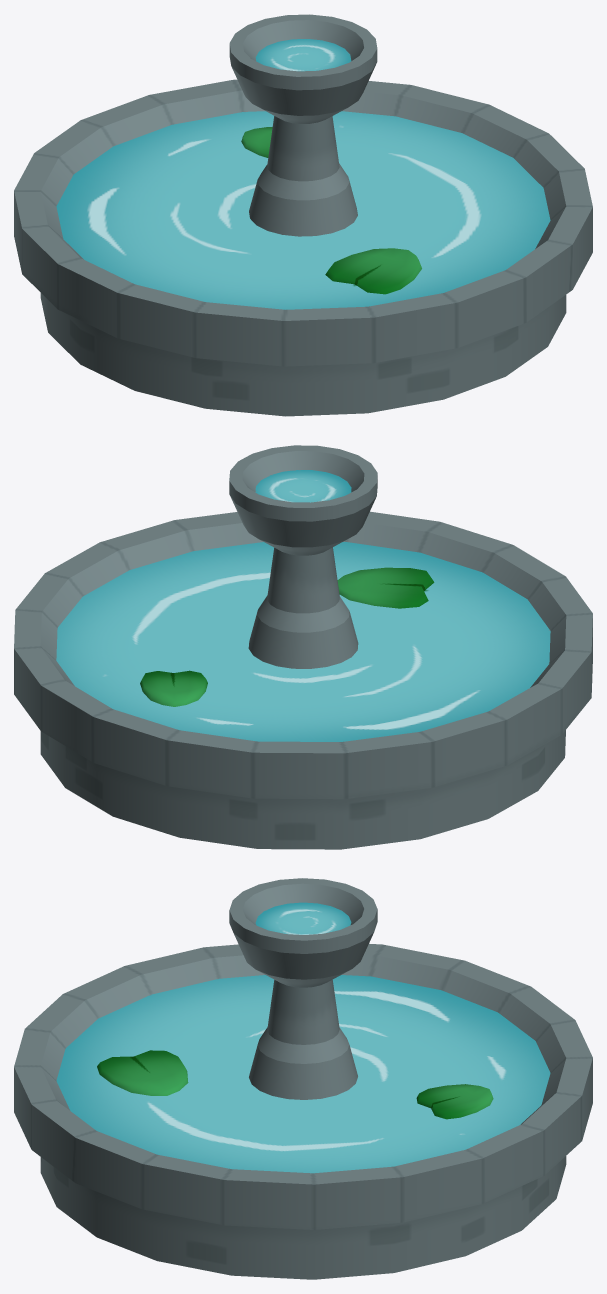
File: fountain.fbx
The picture shows the model from 3 angles, top to bottom: view 1: azimuth 30°, elevation 25°; view 2: azimuth 150°, elevation 25°; view 3: azimuth 270°, elevation 25°; orthographic projection.
Visible parts, largest first — view 1: fountain; view 2: fountain; view 3: fountain.
Boxes of the visible parts, x1,y1,x2,y2 form: fountain: (14,14,592,416); fountain: (14,445,592,849); fountain: (14,878,592,1279).
Bounding box in the file's own units: 3.6 × 1.78 × 3.6.
